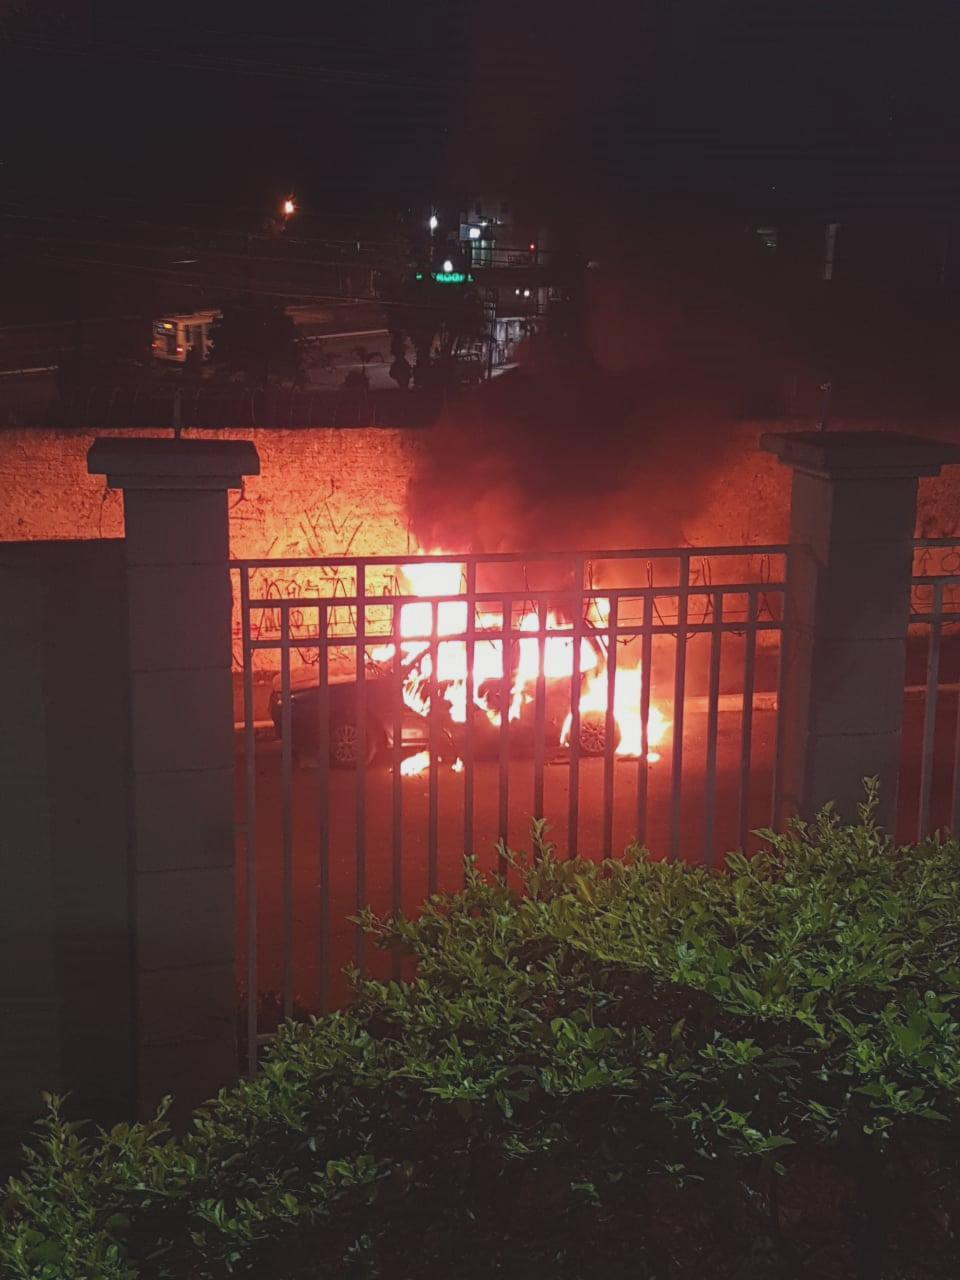Fire: (350, 556, 614, 721), (567, 659, 673, 766), (401, 751, 432, 777), (452, 759, 464, 775)
